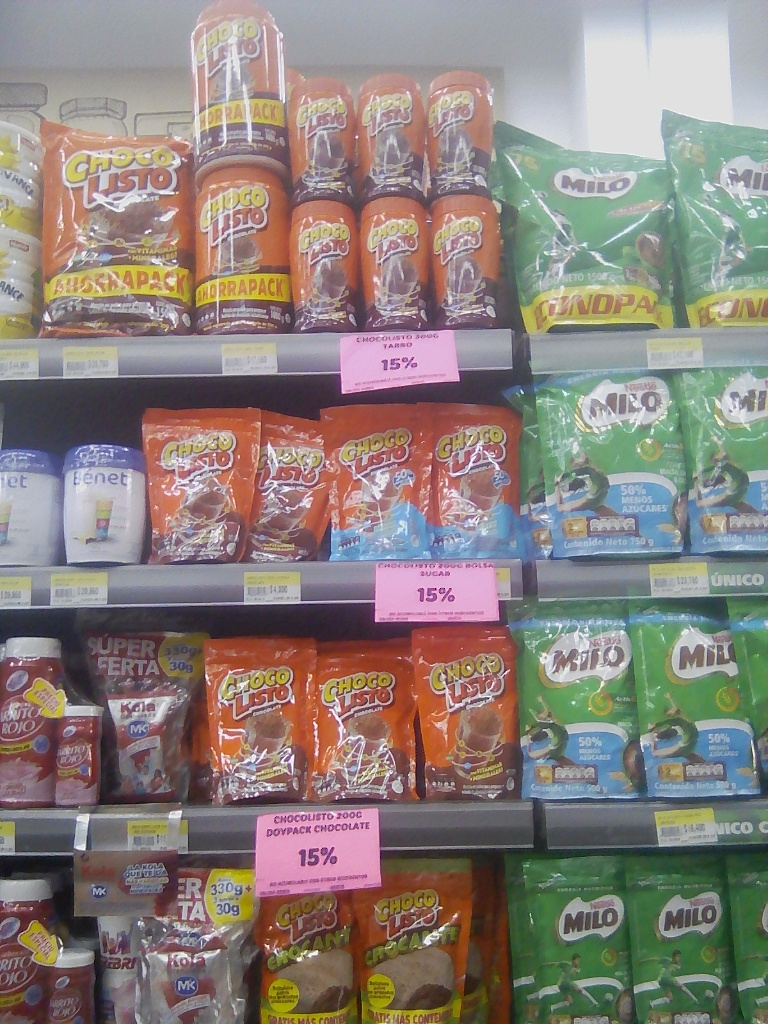COL0170103DYP1,500: (40, 122, 191, 341)
COL0170103TRR00100: (187, 9, 287, 166)
COL0170104DYP20000: (324, 404, 431, 557)
COL0170205DYP50000: (507, 602, 640, 798)
